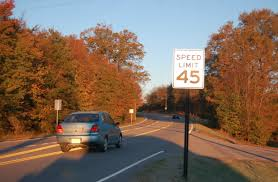speedLimit45: (172, 46, 206, 90)
